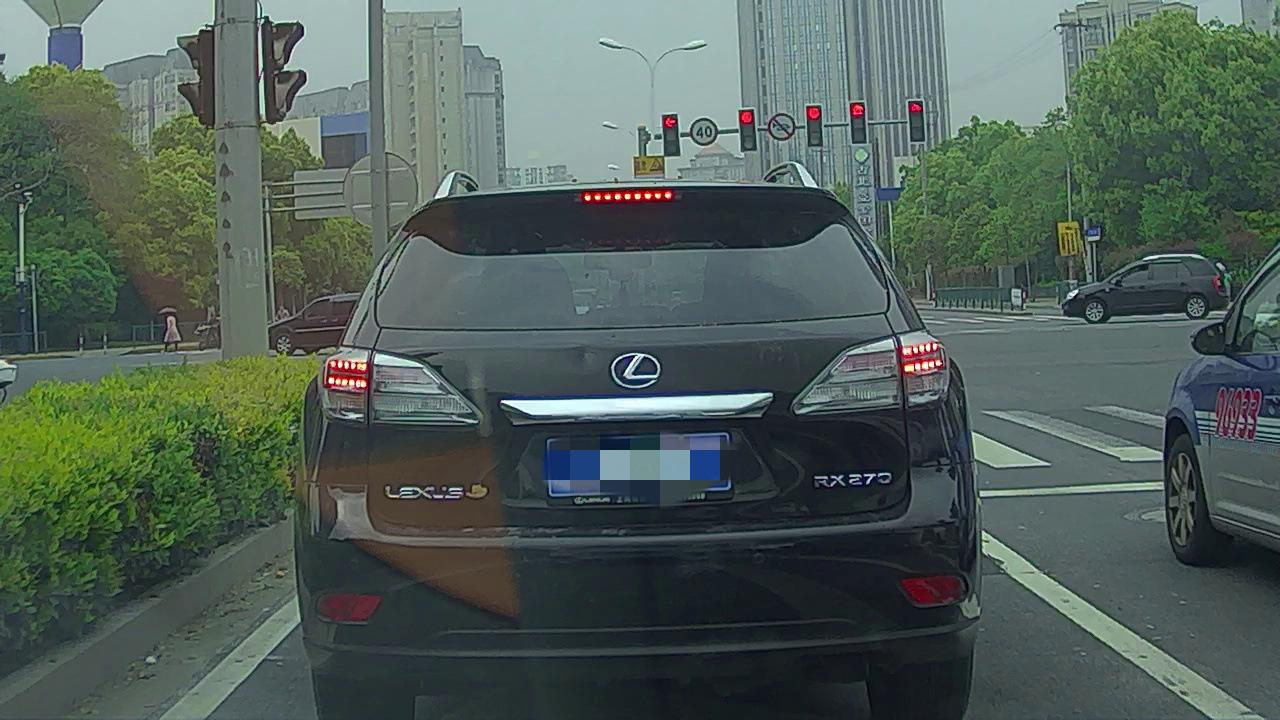traffic_light: (909, 99, 927, 142), (738, 109, 756, 150), (662, 114, 679, 156), (850, 102, 866, 145), (806, 105, 822, 146)
